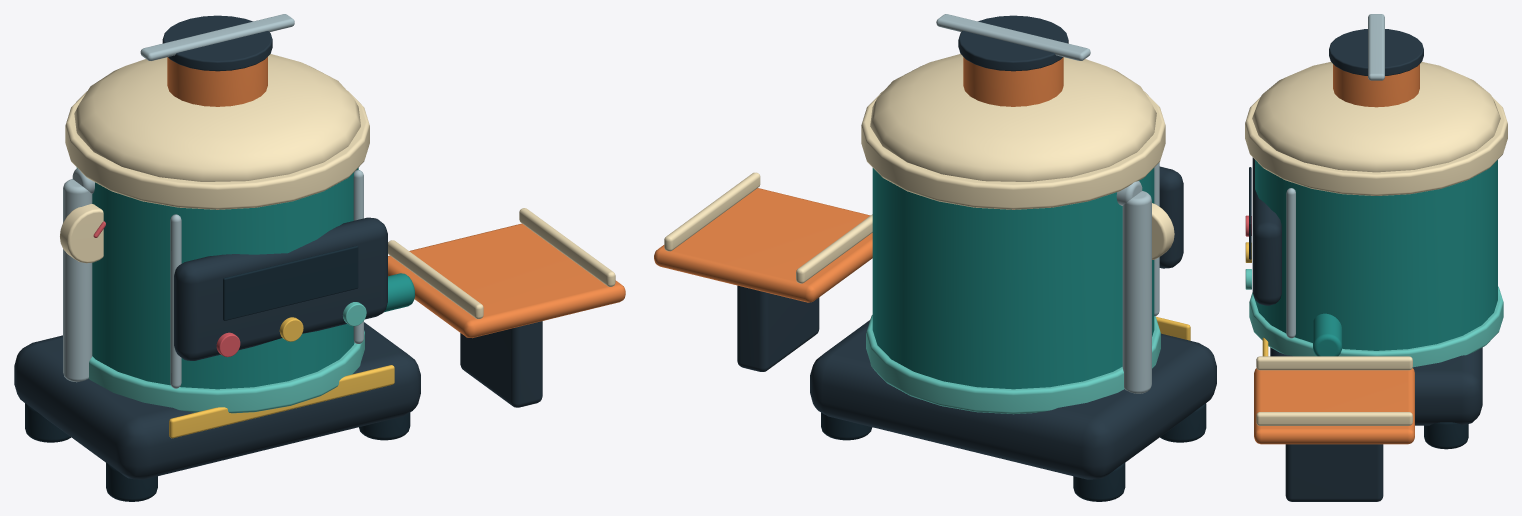
Rendered from mixer.glb.
3 views of the same model, side by side, from view 1: azimuth 30°, elevation 25°; view 2: azimuth 150°, elevation 25°; view 3: azimuth 270°, elevation 25° (orthographic). The views are drawn at different scales.
Parts seen in each view (by area): view 1: Tank, Lid, Chassis, Tray, Control housing, Top collar, Bottom collar, Screen, Tray stand, Riser, Motor cap, Motor (+11 smaller); view 2: Tank, Lid, Chassis, Tray, Top collar, Bottom collar, Riser, Tray stand, Motor cap, Motor, Rotor blade, Control housing (+6 smaller); view 3: Tank, Lid, Tray, Top collar, Tray stand, Chassis, Bottom collar, Control housing, Motor cap, Motor, Tray rail, Tray rail.001 (+4 smaller).
Boxes of the visible parts, x1,y1,x2,y2 form: Tank: (76, 167, 358, 389); Lid: (74, 54, 360, 181); Chassis: (14, 322, 420, 479); Tray: (388, 223, 625, 338); Control housing: (174, 217, 387, 360); Top collar: (65, 90, 369, 209); Bottom collar: (88, 330, 364, 413); Screen: (223, 245, 358, 320); Tray stand: (460, 321, 542, 407); Riser: (63, 179, 92, 382); Motor cap: (162, 15, 272, 71); Motor: (167, 57, 267, 106); Tank: (872, 168, 1154, 389); Lid: (870, 54, 1156, 181); Chassis: (810, 320, 1216, 479); Tray: (654, 188, 872, 302); Top collar: (861, 90, 1165, 209); Bottom collar: (866, 315, 1160, 414); Riser: (1122, 191, 1151, 393); Tray stand: (737, 285, 819, 371); Motor cap: (958, 15, 1068, 71); Motor: (963, 57, 1063, 106); Rotor blade: (936, 14, 1090, 60); Control housing: (1159, 166, 1183, 268); Tank: (1255, 160, 1497, 350); Lid: (1252, 62, 1500, 172); Tray: (1254, 368, 1414, 444); Top collar: (1245, 97, 1507, 195); Tray stand: (1285, 444, 1383, 501); Chassis: (1270, 347, 1482, 425); Bottom collar: (1249, 286, 1503, 367); Control housing: (1252, 157, 1281, 305); Motor cap: (1329, 29, 1423, 75); Motor: (1333, 64, 1419, 107); Tray rail: (1256, 356, 1412, 370); Tray rail.001: (1256, 412, 1412, 425).
Size of the model in its own units: 3.54 by 2.72 by 1.88.
